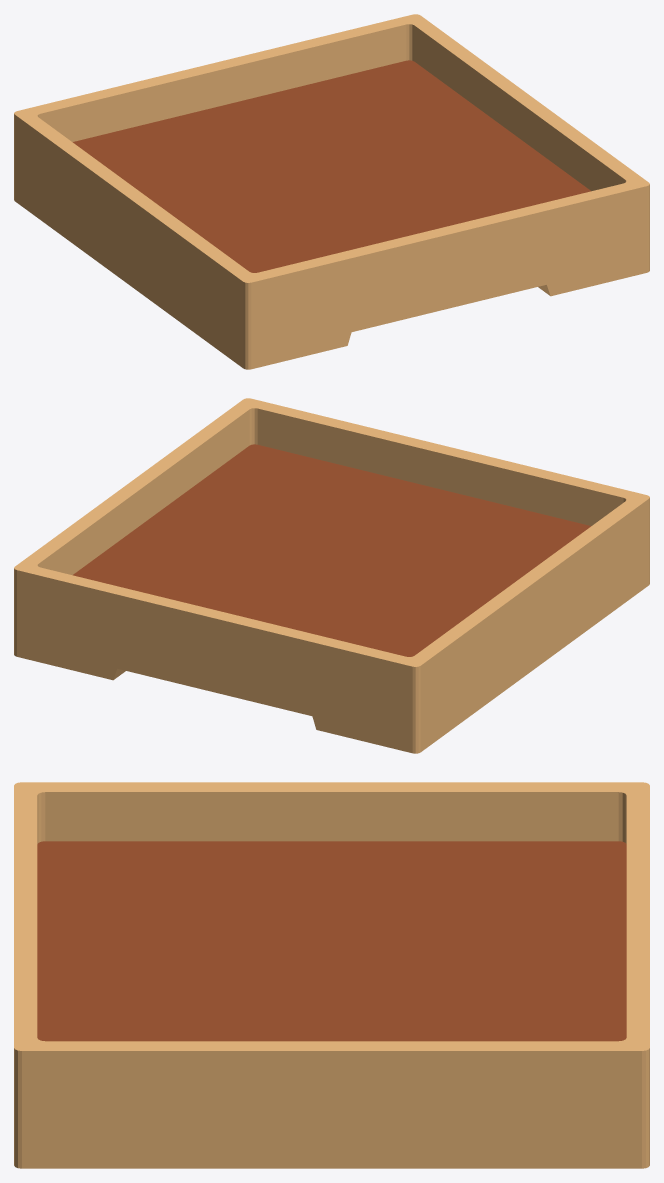
Rendered from tepsig.fbx.
3 views of the same model, one above another, from view 1: azimuth 30°, elevation 25°; view 2: azimuth 150°, elevation 25°; view 3: azimuth 270°, elevation 25° (orthographic). The views are drawn at different scales.
Parts seen in each view (by area): view 1: Cube.004; view 2: Cube.004; view 3: Cube.004.
Part boxes in pixels (x1,y1,x2,y2): Cube.004: (14, 14, 649, 369); Cube.004: (14, 398, 649, 753); Cube.004: (14, 782, 649, 1168).
Bounding box in the file's own units: 41.82 × 8.54 × 41.82.
